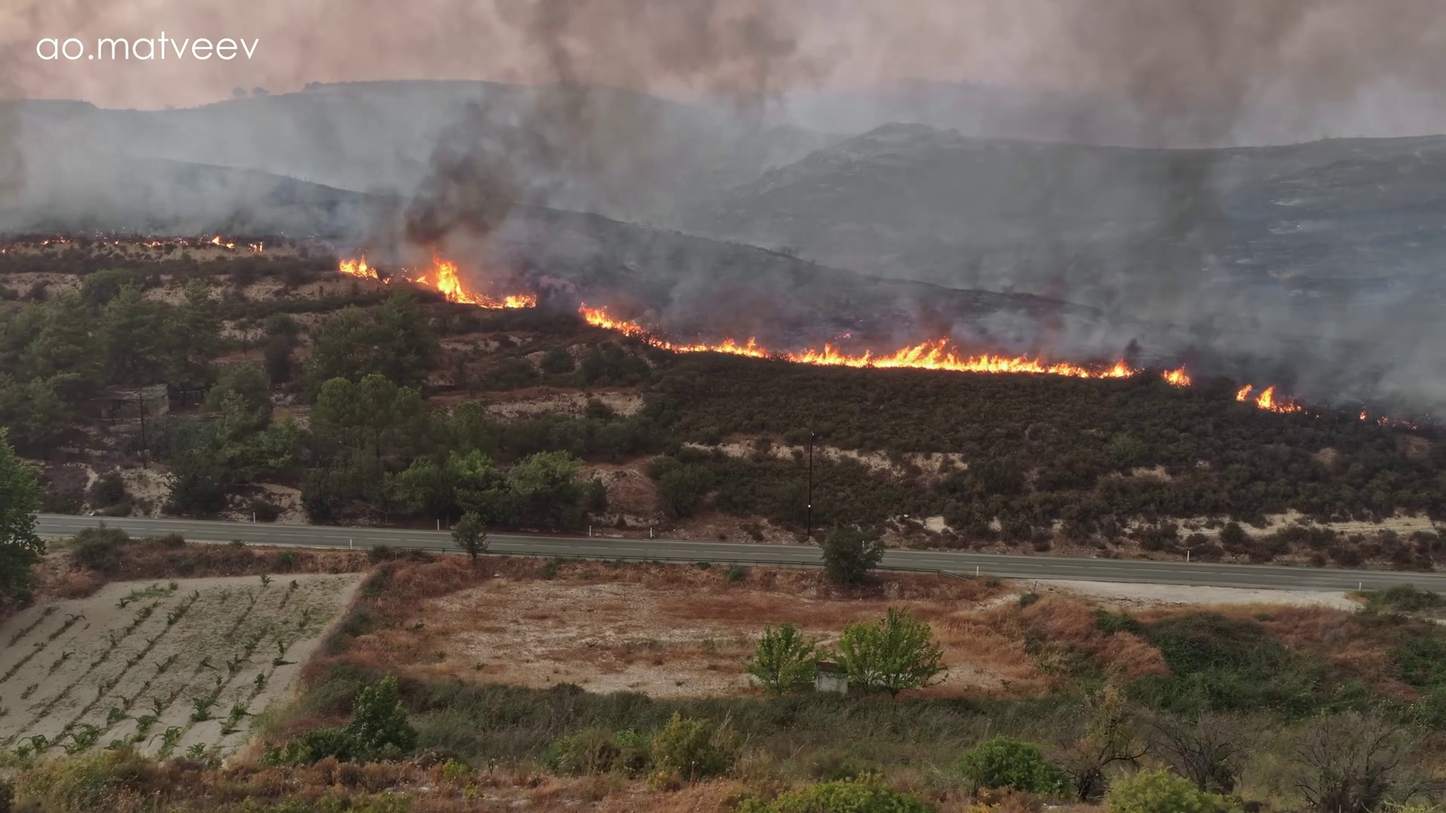forest_fire: (578, 303, 1140, 377), (578, 303, 1139, 377), (400, 255, 535, 309), (400, 255, 535, 307), (1237, 385, 1303, 413), (337, 255, 389, 282), (337, 256, 387, 280), (1161, 367, 1192, 385), (1165, 368, 1188, 385)
